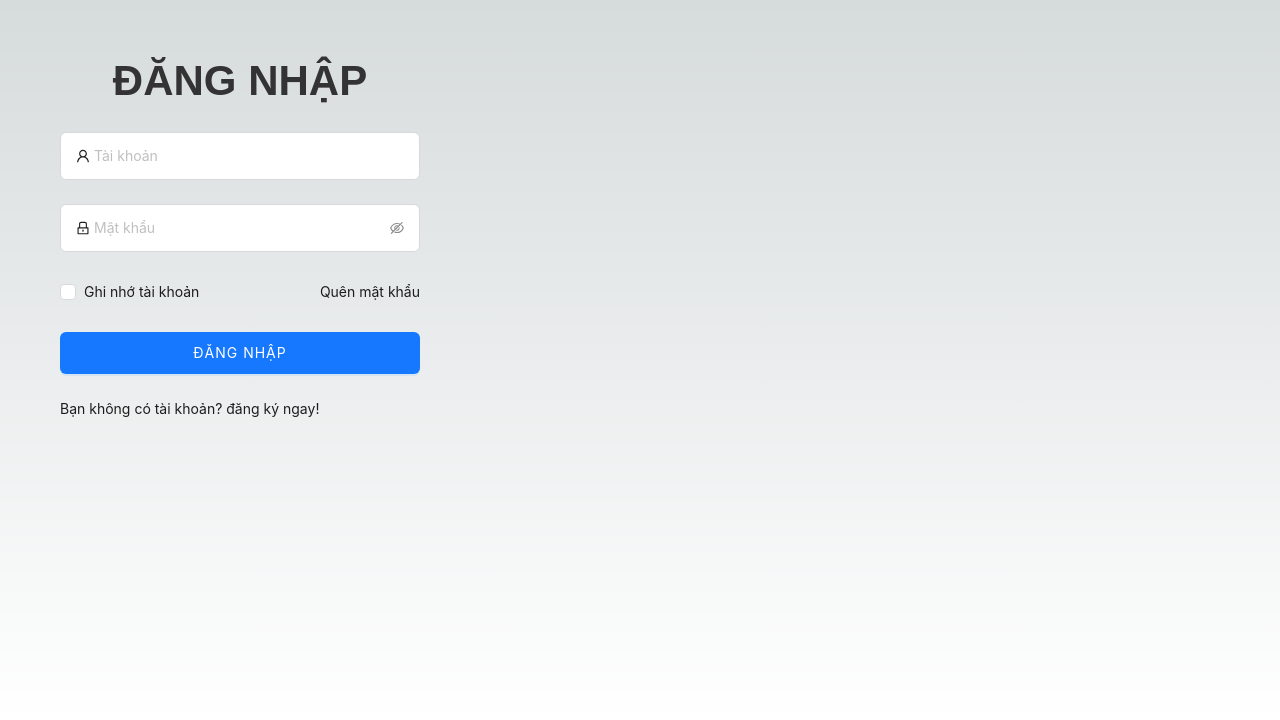
Test: TC_DangNhap › TC01_DangNhap_Rong
Step 1. Click the button "ĐĂNG NHẬP" → click(240, 353), box left=60, top=332, right=420, bottom=374
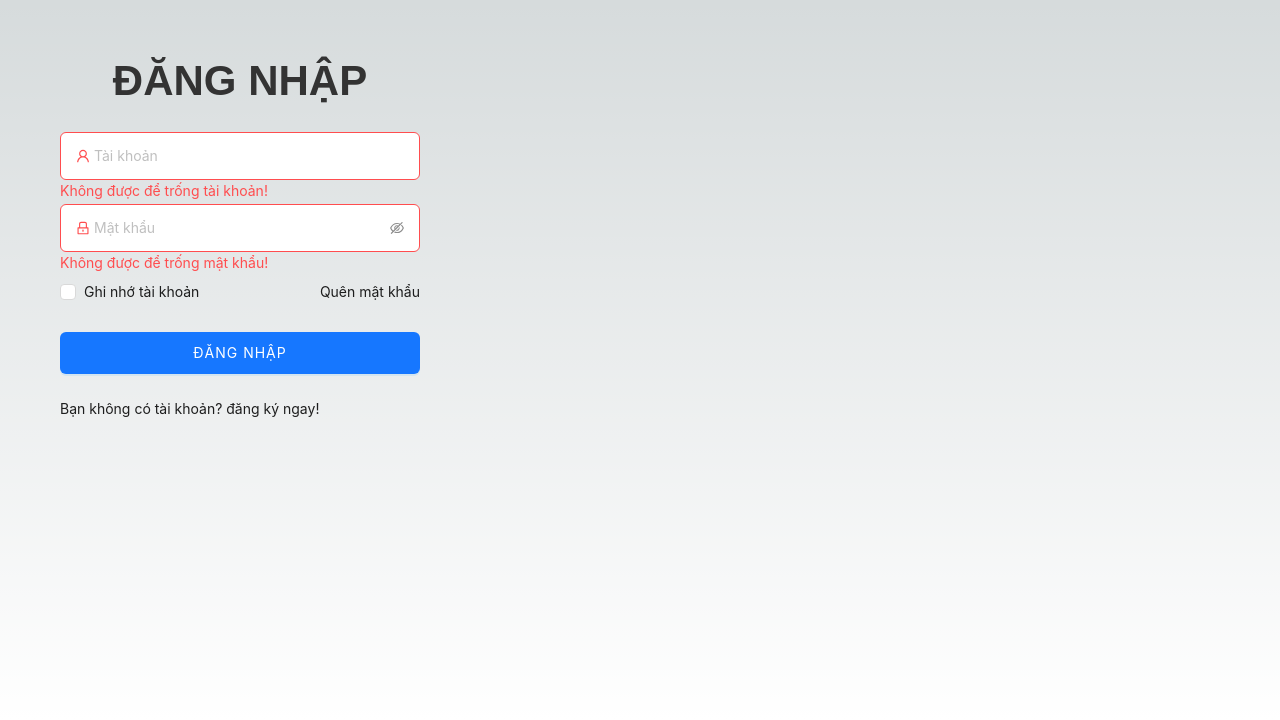
Expected: the text "Không được để trống tài khoản!" is shown, left=60, top=182, right=268, bottom=199
Expected: the text "Không được để trống mật khẩu!" is shown, left=60, top=254, right=268, bottom=271
